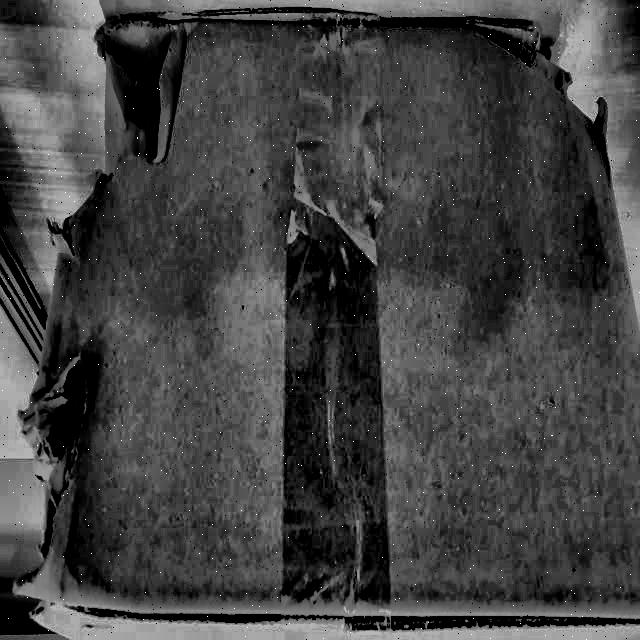box: (16, 4, 639, 638)
hole: (70, 15, 190, 243), (464, 24, 620, 160), (29, 358, 87, 612)
